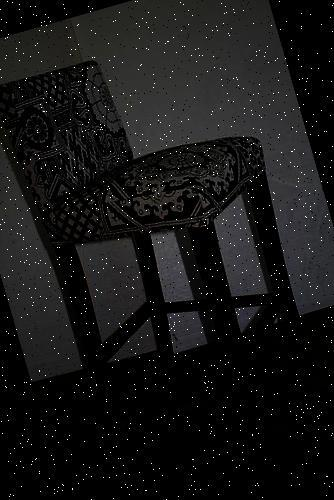Silla: (0, 16, 333, 499)
